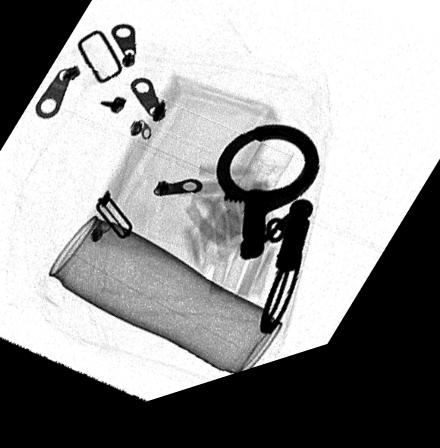HandCuffs: (215, 141, 319, 353)
